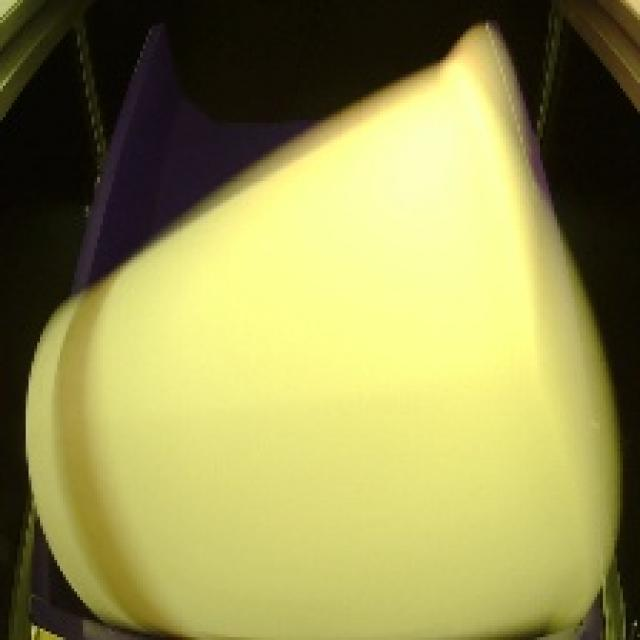cups: (0, 10, 640, 640)
